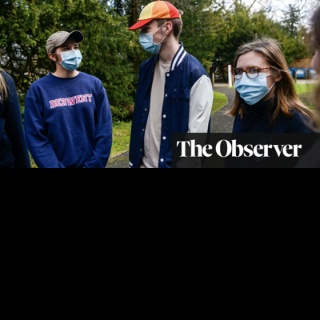with_mask: (232, 64, 272, 107), (56, 42, 83, 70), (139, 25, 163, 56)
